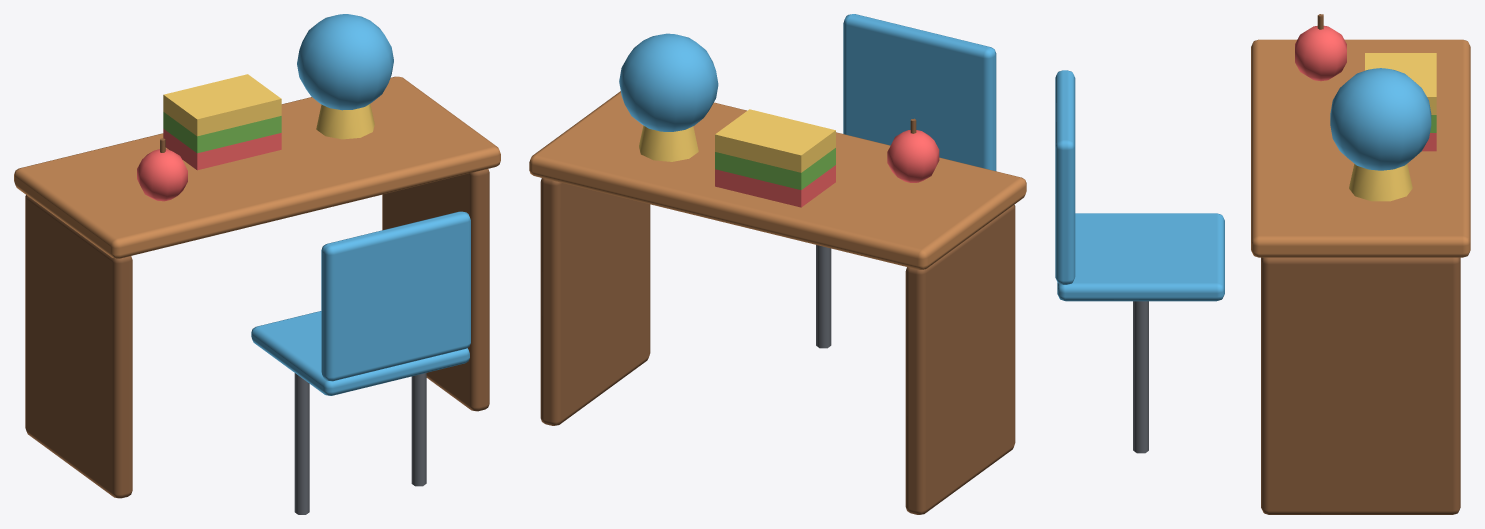
The model's file is kpiano-desk.glb.
3 renders of one model, left to right at view 1: azimuth 30°, elevation 25°; view 2: azimuth 150°, elevation 25°; view 3: azimuth 270°, elevation 25°, orthographic. The views are drawn at different scales.
Bounding box in the file's own units: 1.2 × 1.1 × 1.04.
